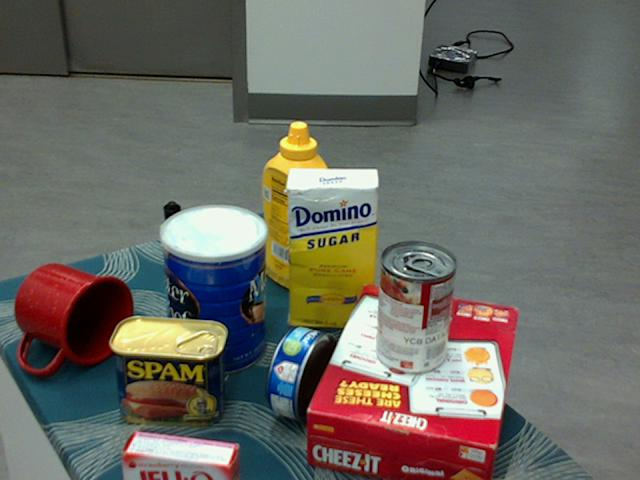cracker_box: (305, 286, 517, 479)
gelatin_box: (119, 429, 235, 479)
large_marker: (163, 200, 183, 301)
master_chef_can: (160, 205, 267, 377)
mug: (14, 262, 133, 374)
mustard_bottle: (261, 121, 332, 294)
potted_meat_can: (109, 314, 227, 425)
sugar_box: (286, 167, 378, 330)
tomato_soup_can: (373, 242, 456, 375)
tuna_fish_can: (266, 326, 337, 423)
